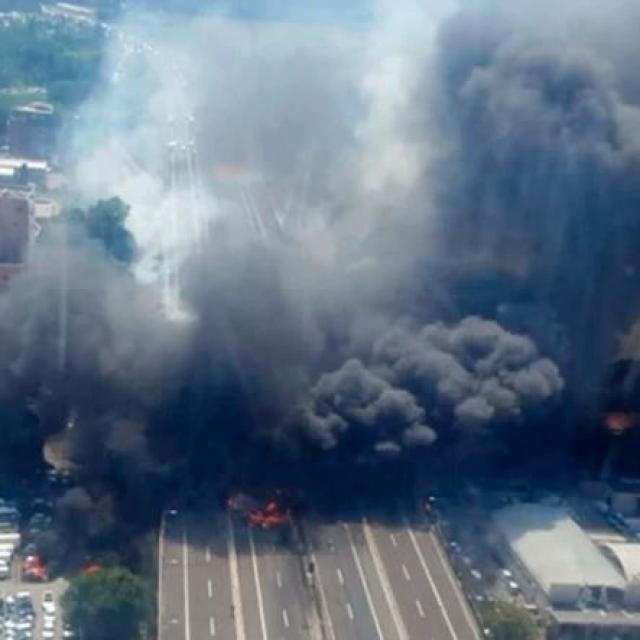Fire: (204, 473, 300, 538)
Smoke: (40, 52, 627, 522)
